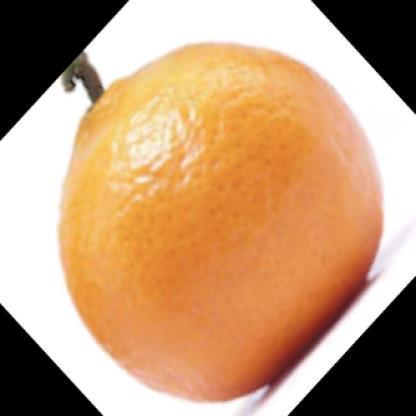fresh: (58, 43, 385, 404)
